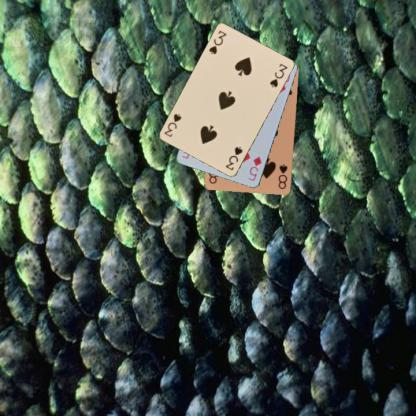3s: (206, 28, 228, 56), (223, 144, 244, 171)
5d: (245, 154, 263, 182)
8s: (275, 162, 289, 190)
